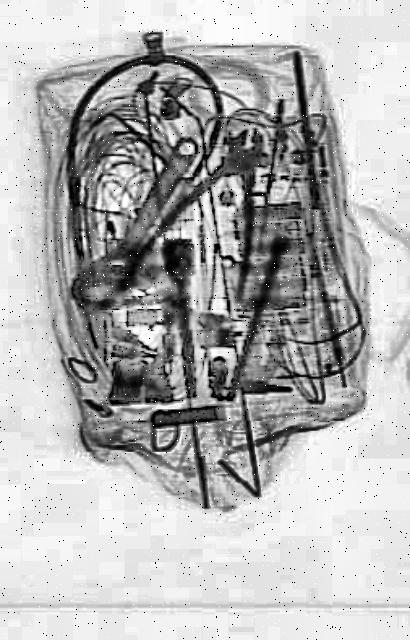Pliers: (149, 94, 298, 320)
Wrench: (71, 125, 209, 328)
